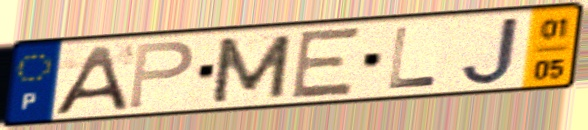A: (49, 42, 132, 117)
E: (287, 24, 365, 101)
J: (457, 14, 524, 89)
L: (385, 25, 441, 92)
M: (207, 32, 296, 106)
P: (124, 39, 197, 111)
